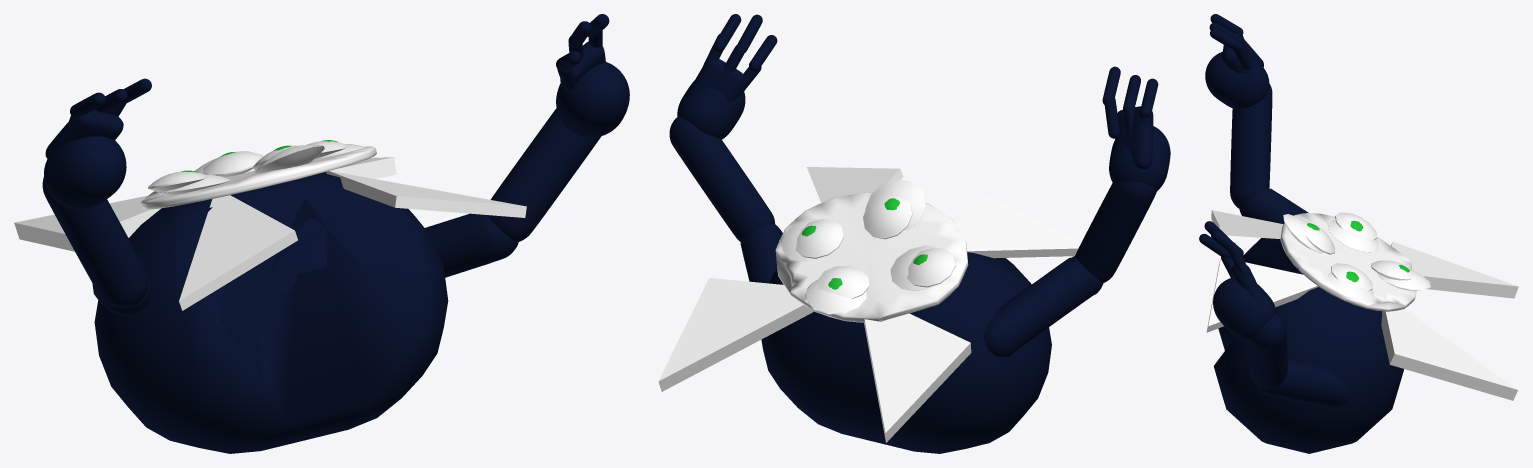
The model's file is BlueMonsters.FBX.
The picture shows the model from 3 angles, left to right: view 1: azimuth 30°, elevation 25°; view 2: azimuth 150°, elevation 25°; view 3: azimuth 270°, elevation 25°; orthographic projection. The views are drawn at different scales.
Visible parts, largest first — view 1: Capsule001; view 2: Capsule001; view 3: Capsule001.
Part boxes in pixels (bbox=[...]): Capsule001: bbox=[14, 14, 629, 453]; Capsule001: bbox=[658, 14, 1170, 453]; Capsule001: bbox=[1199, 14, 1518, 453].
Size of the model in its own units: 1414 by 1041 by 910.
